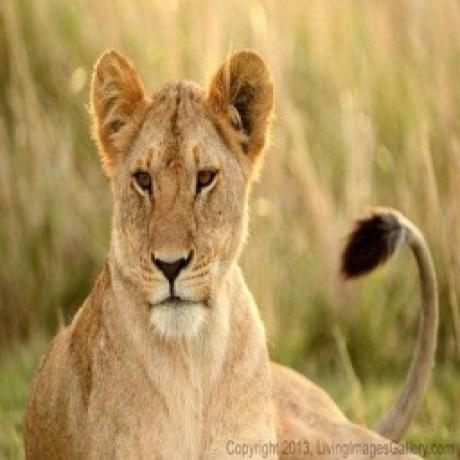Lion: (20, 43, 456, 460)
